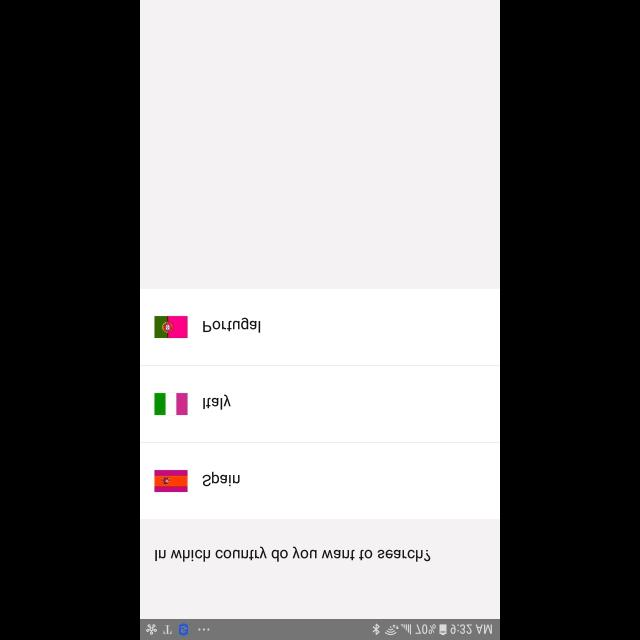image: (155, 468, 189, 492), (156, 392, 188, 416), (156, 316, 188, 338)
text: (156, 546, 430, 562), (203, 317, 261, 333), (203, 394, 231, 410)
uppertaskbar: (140, 618, 500, 640)
